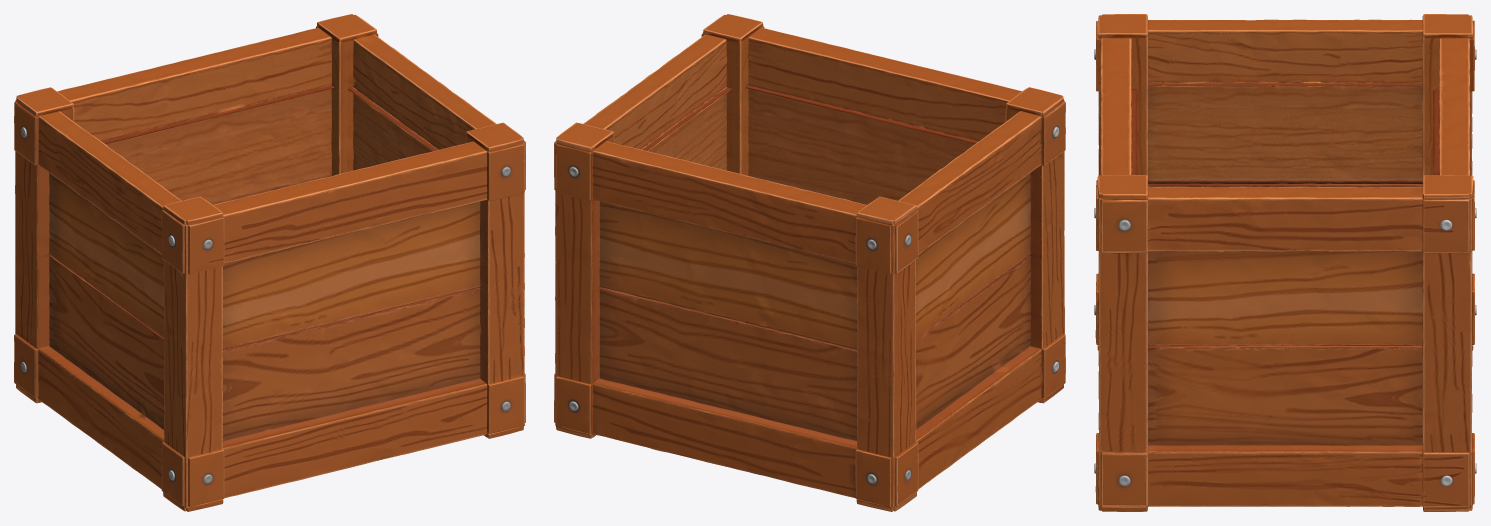
The model's file is crate.glb.
3 renders of one model, left to right at view 1: azimuth 30°, elevation 25°; view 2: azimuth 150°, elevation 25°; view 3: azimuth 270°, elevation 25°, orthographic. The views are drawn at different scales.
Bounding box in the file's own units: 1.9 × 1.53 × 1.67.
1 material, 1 textured.
